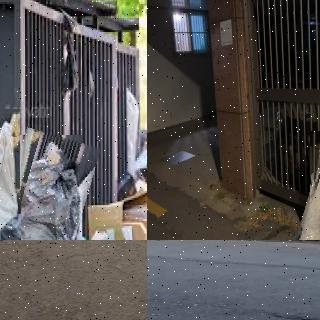Garbage: (0, 131, 91, 240), (0, 109, 20, 240), (301, 129, 320, 240)
